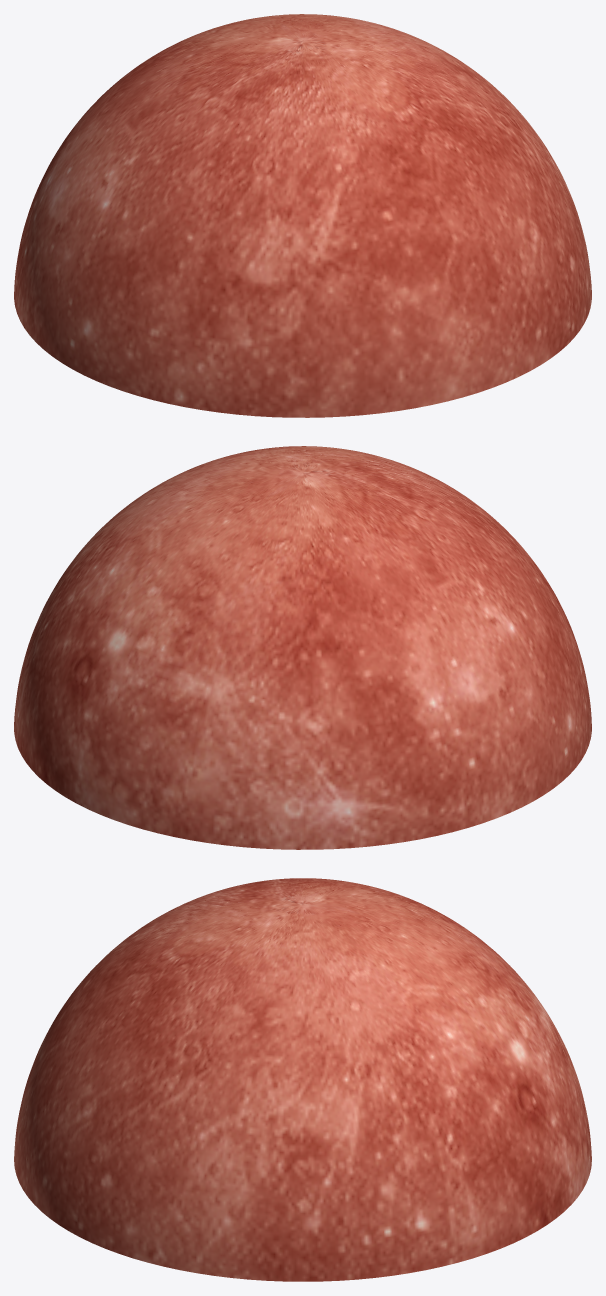
File: Planets_single_planet.gltf
3 views of the same model, one above another, from view 1: azimuth 30°, elevation 25°; view 2: azimuth 150°, elevation 25°; view 3: azimuth 270°, elevation 25° (orthographic).
Parts seen in each view (by area): view 1: Mercury; view 2: Mercury; view 3: Mercury.
Boxes of the visible parts, x1,y1,x2,y2 form: Mercury: (14, 14, 591, 417); Mercury: (14, 446, 591, 849); Mercury: (14, 878, 591, 1281).
Size of the model in its own units: 7.62 by 3.71 by 7.62.
1 material, 1 textured.
